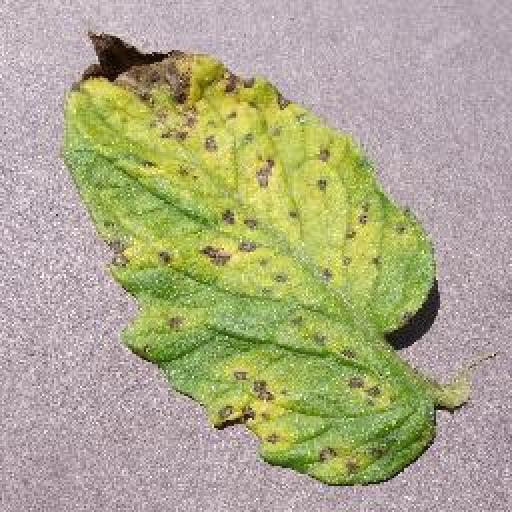Septoria: (69, 30, 440, 482)
